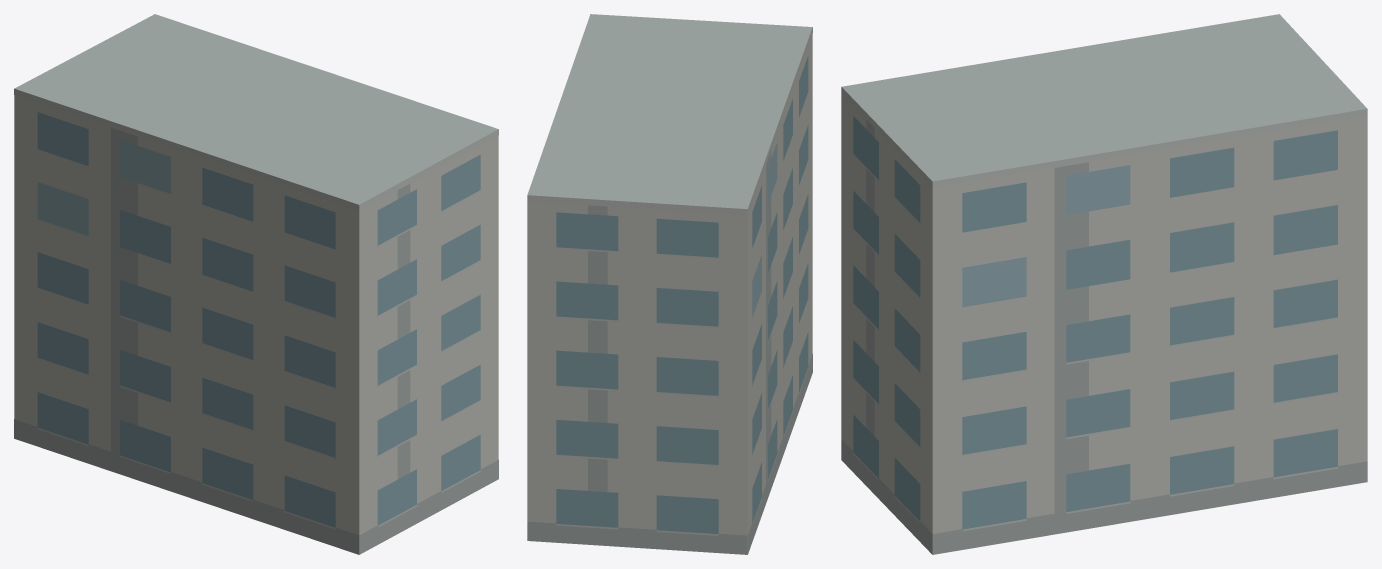
The model's file is survey-upis-32893269.glb.
3 views of the same model, side by side, from view 1: azimuth 30°, elevation 25°; view 2: azimuth 150°, elevation 25°; view 3: azimuth 270°, elevation 25° (orthographic). The views are drawn at different scales.
Visible parts, largest first — view 1: survey-upis-32893269.tmp; view 2: survey-upis-32893269.tmp; view 3: survey-upis-32893269.tmp.
Boxes of the visible parts, left/top/right/bottom form: survey-upis-32893269.tmp: left=14, top=14, right=498, bottom=554; survey-upis-32893269.tmp: left=527, top=14, right=812, bottom=554; survey-upis-32893269.tmp: left=841, top=14, right=1367, bottom=554.
Size of the model in its own units: 12.86 by 13.35 by 17.06.
